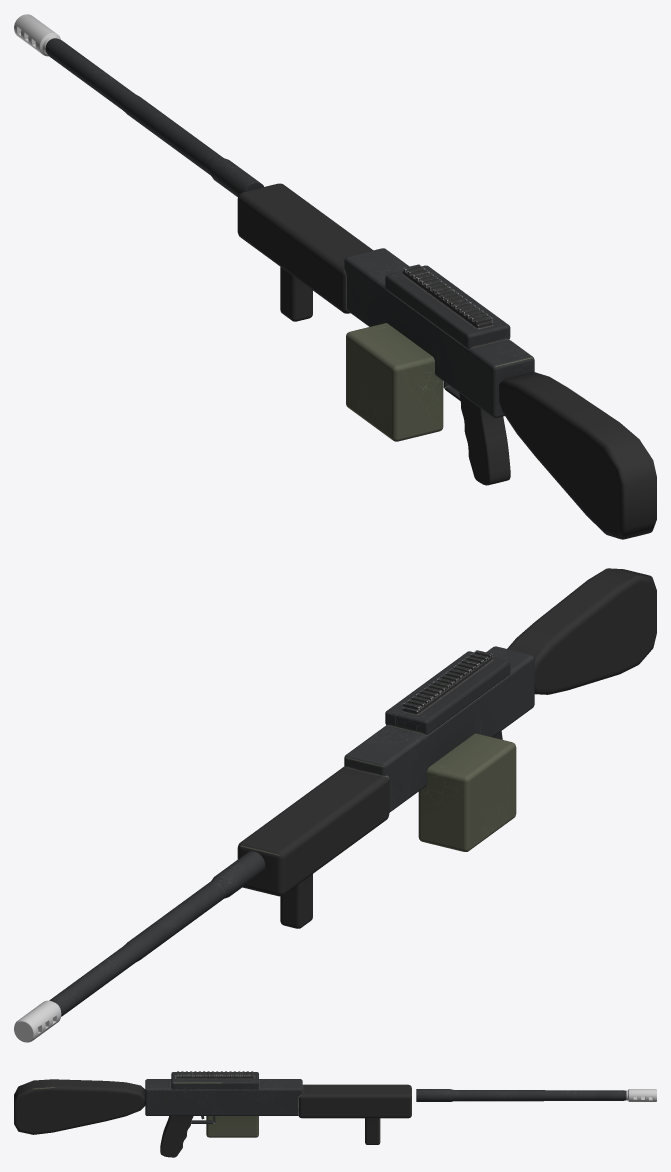
3 views of the same model, one above another, from view 1: azimuth 30°, elevation 25°; view 2: azimuth 150°, elevation 25°; view 3: azimuth 270°, elevation 25° (orthographic). The views are drawn at different scales.
Parts seen in each view (by area): view 1: Frame, Stock, Mag_body, FlashHider; view 2: Frame, Stock, Mag_body, FlashHider; view 3: Frame, Stock, Mag_body, FlashHider.
Boxes of the visible parts, left/top/right/bottom form: Frame: left=45, top=38, right=534, bottom=485; Stock: left=499, top=372, right=656, bottom=539; Mag_body: left=346, top=323, right=443, bottom=441; FlashHider: left=14, top=14, right=60, bottom=56; Frame: left=49, top=646, right=534, bottom=1016; Stock: left=507, top=568, right=656, bottom=694; Mag_body: left=418, top=733, right=516, bottom=851; FlashHider: left=14, top=1000, right=61, bottom=1042; Frame: left=145, top=1071, right=626, bottom=1157; Stock: left=14, top=1079, right=145, bottom=1134; Mag_body: left=206, top=1116, right=258, bottom=1137; FlashHider: left=626, top=1089, right=656, bottom=1101.
Bounding box in the file's own units: 0.1175 × 0.2062 × 1.47.
